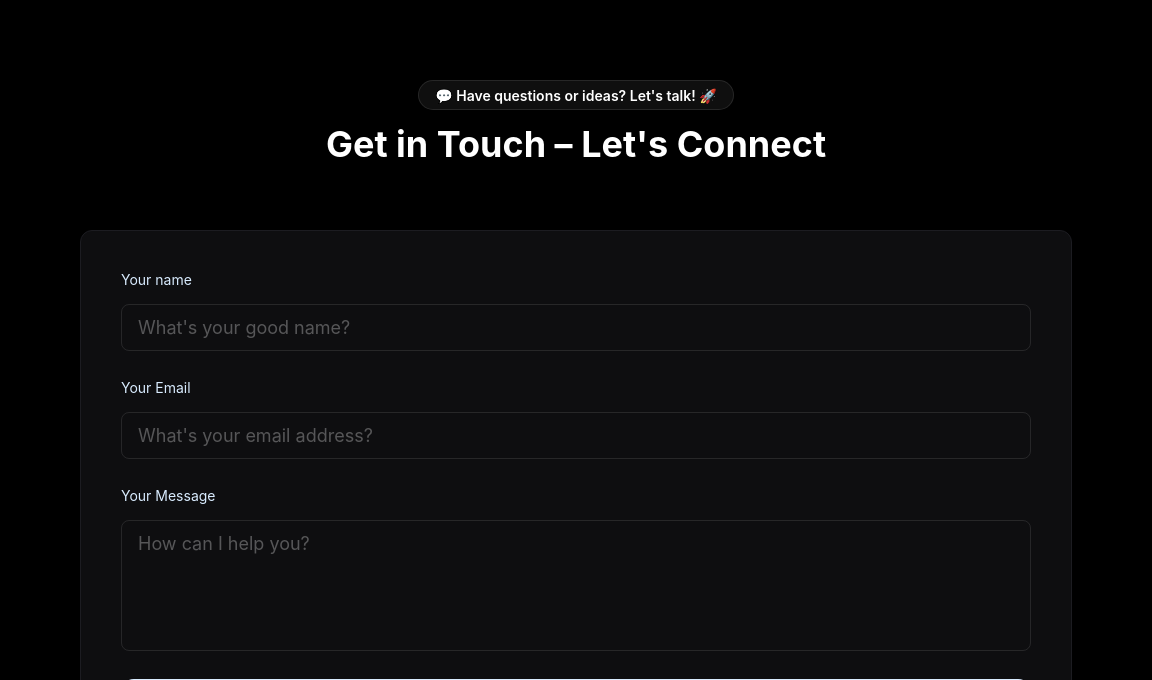
Scenario: ContactComponent › email validation › should clear the error after correcting an invalid email
In the field named "email": (576, 436) [121,412,1031,459], type "bad-email"
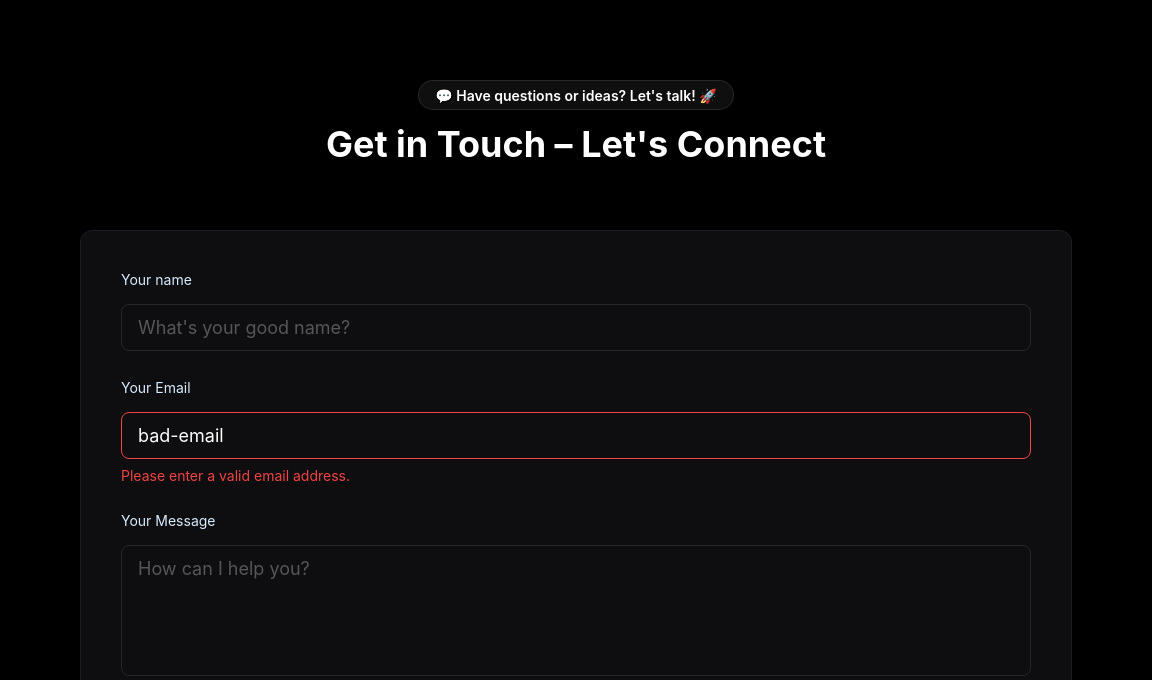
Replace the text in the field named "email" with "user@example.com": (576, 436) [121,412,1031,459]
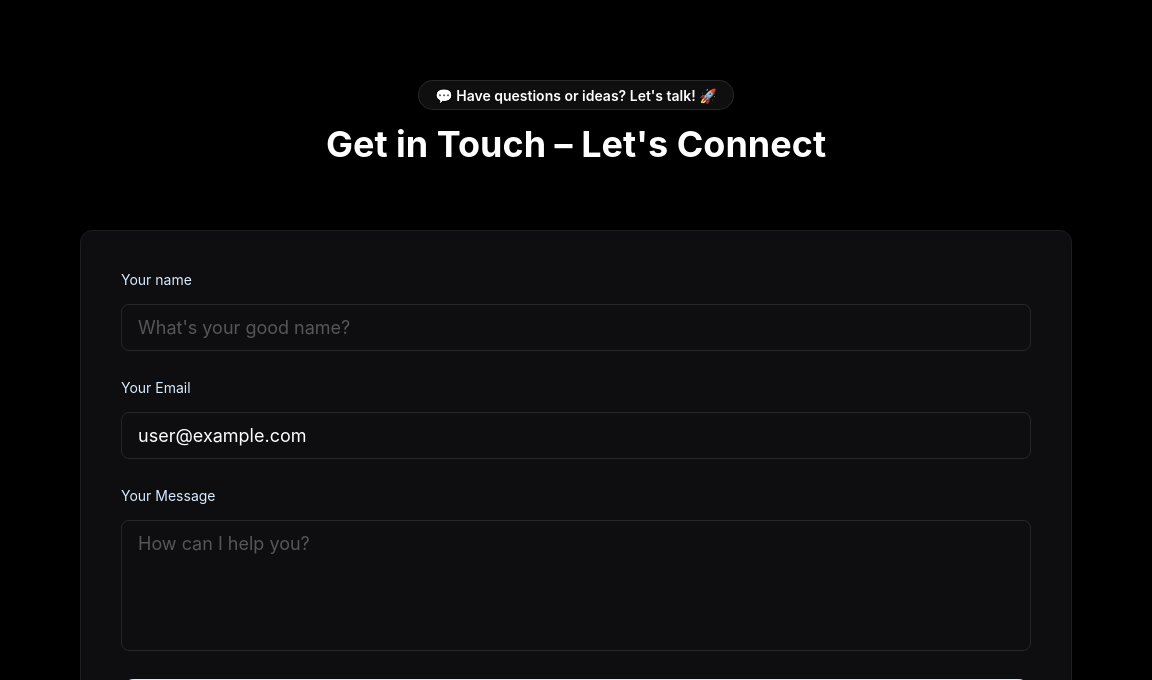
Expected: the text with class "field-error" is gone
